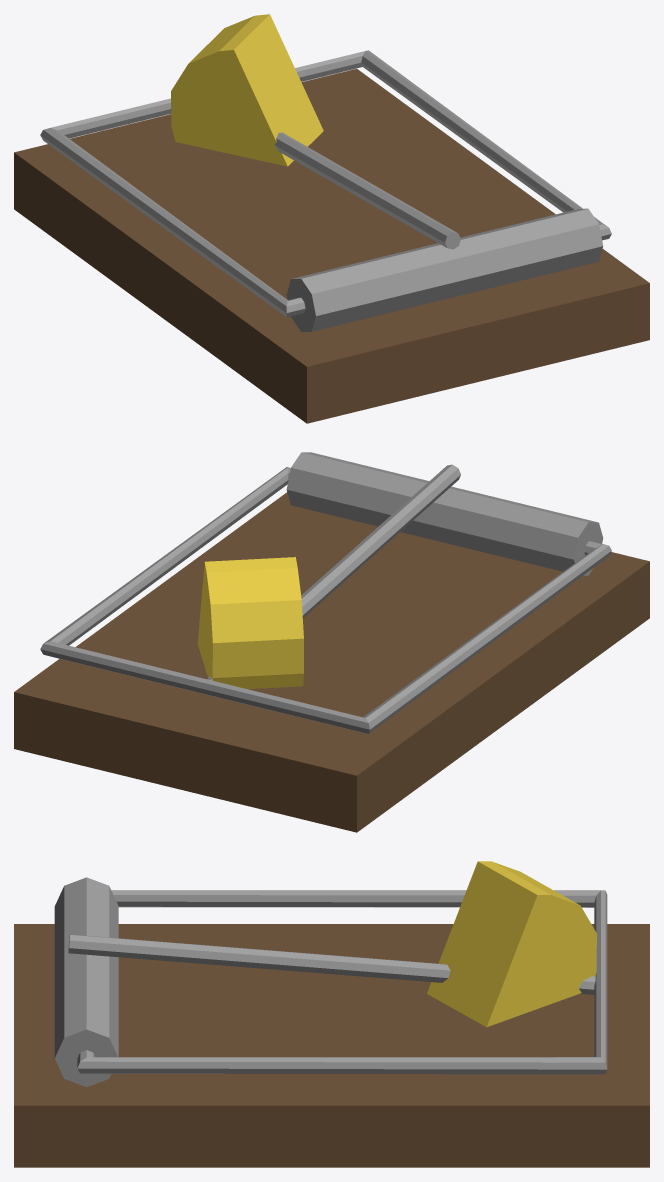
The model's file is Rat_Trap.fbx.
The picture shows the model from 3 angles, top to bottom: view 1: azimuth 30°, elevation 25°; view 2: azimuth 150°, elevation 25°; view 3: azimuth 270°, elevation 25°; orthographic projection. The views are drawn at different scales.
Parts seen in each view (by area): view 1: MouseTrap, Cheese; view 2: MouseTrap, Cheese; view 3: MouseTrap, Cheese.
Part boxes in pixels (<box>): MouseTrap: <box>14,50,649,423</box>; Cheese: <box>171,14,323,166</box>; MouseTrap: <box>14,452,649,832</box>; Cheese: <box>197,557,303,689</box>; MouseTrap: <box>14,877,649,1167</box>; Cheese: <box>427,861,596,1027</box>.
Bounding box in the file's own units: 200 × 102 × 296.
